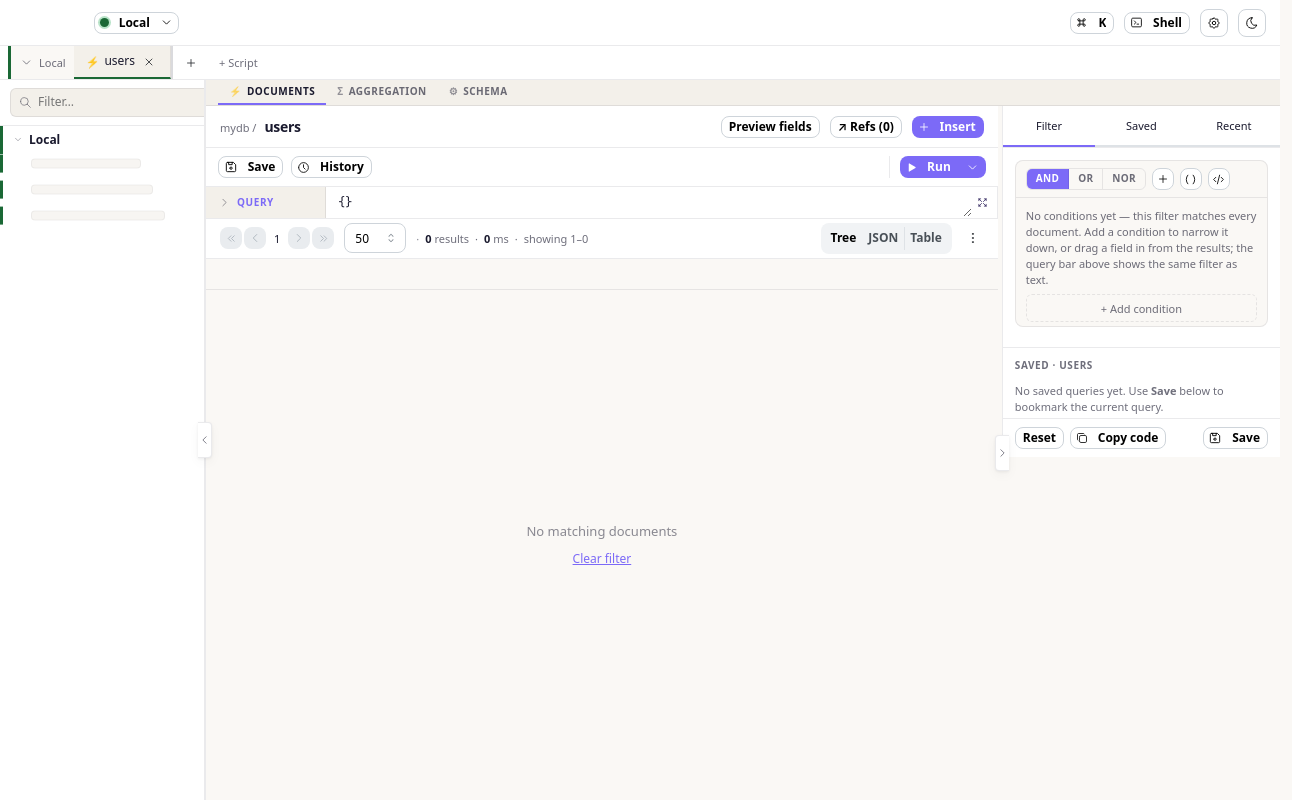
Query Builder — symbolic operators › resolves >= to $gte on blur
This screenshot has width=1292, height=800.
Click the button named "Add condition" at (1163, 179), box [1152,168,1174,190]
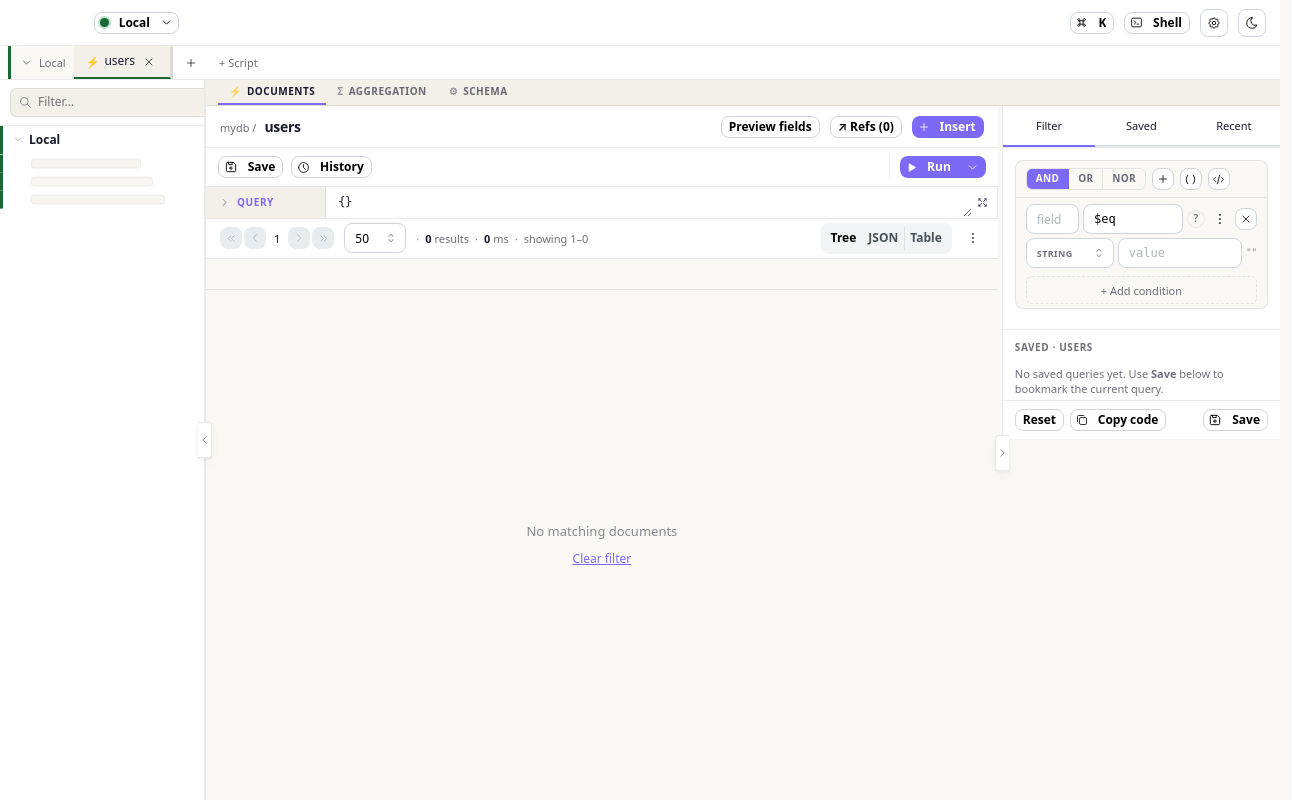
Now the field with placeholder "field" is shown, box [1026,204,1079,234]
Replace the text in the field with placeholder "$op" with ">=" at (1133, 219), box [1083,204,1183,234]
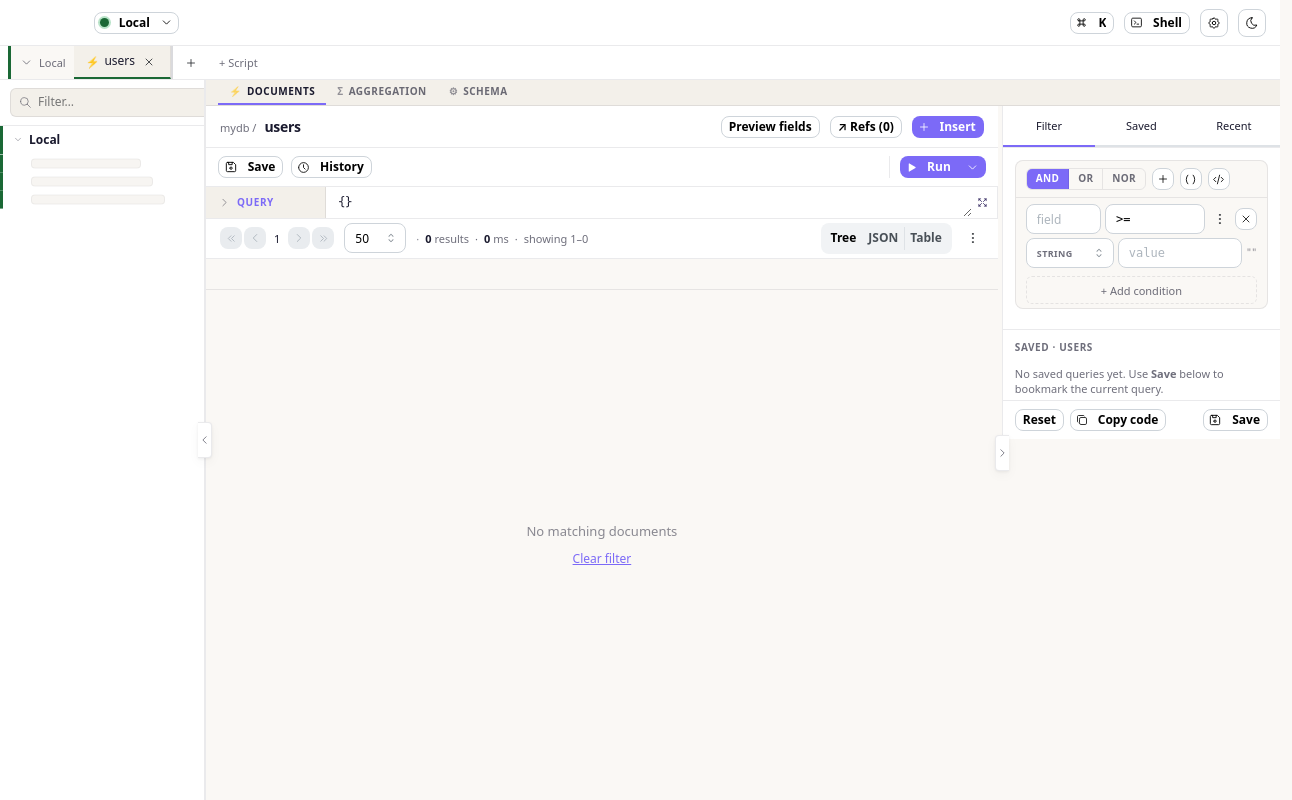
Leave the field with placeholder "$op", box [1105,204,1205,234]
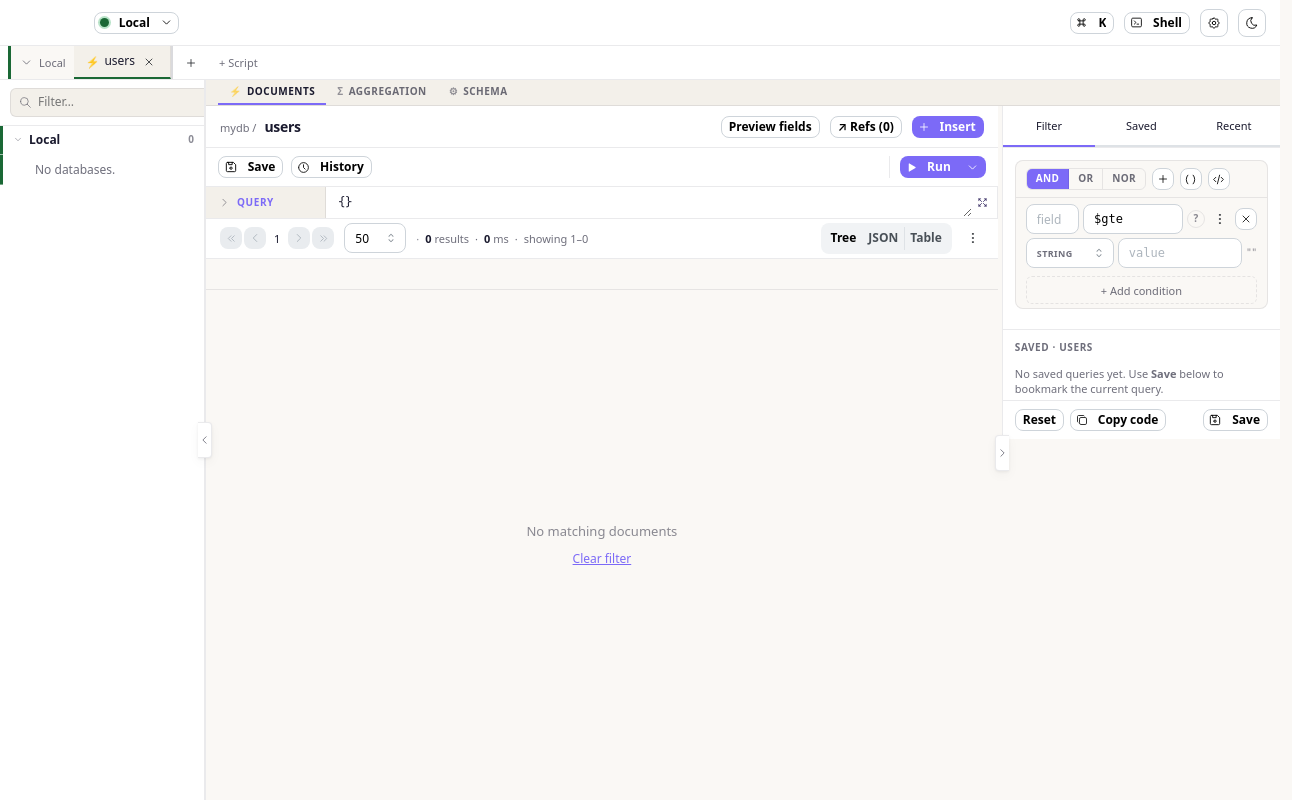
Now the field with placeholder "$op" holds "$gte", box [1083,204,1183,234]
